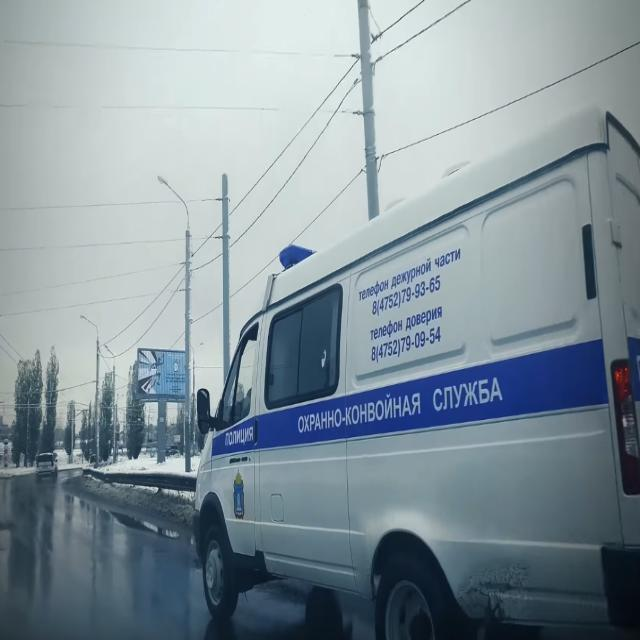non emergency car: (34, 451, 60, 487)
police car: (188, 94, 640, 640)
